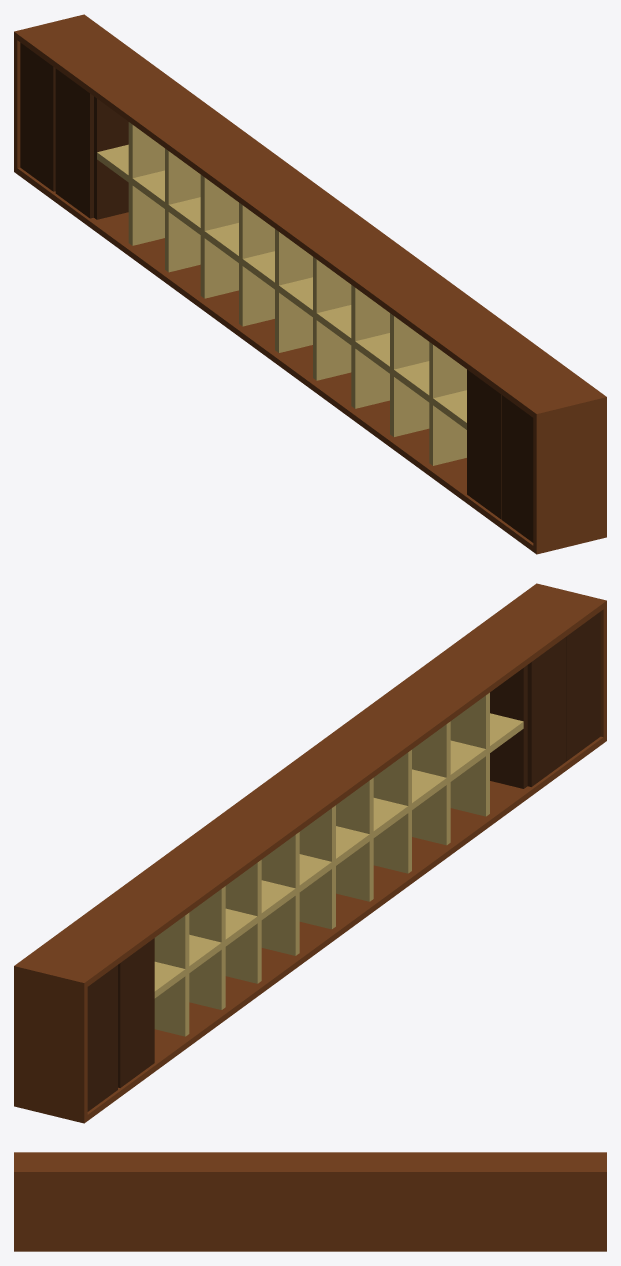
Rendered from shelf.glb.
The picture shows the model from 3 angles, top to bottom: view 1: azimuth 30°, elevation 25°; view 2: azimuth 150°, elevation 25°; view 3: azimuth 270°, elevation 25°; orthographic projection. The views are drawn at different scales.
Visible parts, largest first — view 1: pCube62; view 2: pCube62; view 3: pCube62.
Boxes of the visible parts, x1,y1,x2,y2 form: pCube62: (14, 14, 606, 554); pCube62: (14, 583, 606, 1123); pCube62: (14, 1152, 606, 1251).
Size of the model in its own units: 0.4203 by 0.8019 by 5.41.
